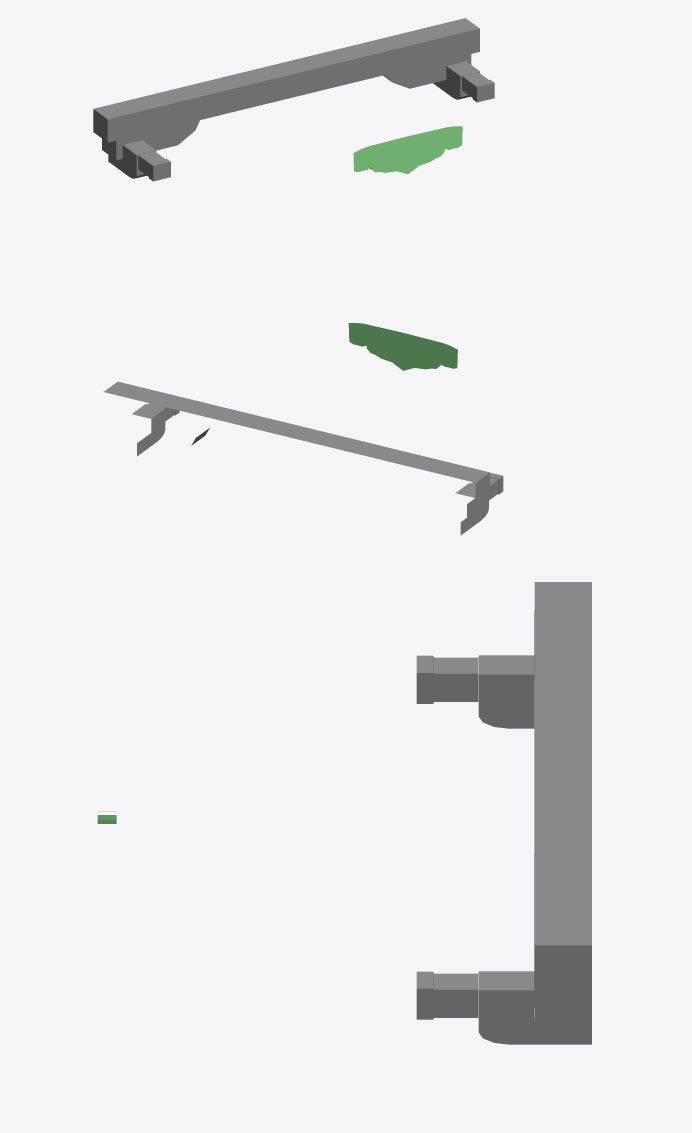
The model's file is S_Envi_Umeda_Pub_03_G.gltf.
The picture shows the model from 3 angles, top to bottom: view 1: azimuth 30°, elevation 25°; view 2: azimuth 150°, elevation 25°; view 3: azimuth 270°, elevation 25°; orthographic projection. The views are drawn at different scales.
Parts seen in each view (by area): view 1: S_Envi_Umeda_Pub_03_G; view 2: S_Envi_Umeda_Pub_03_G; view 3: S_Envi_Umeda_Pub_03_G.
Part boxes in pixels (bbox=[...]): S_Envi_Umeda_Pub_03_G: bbox=[93, 18, 494, 181]; S_Envi_Umeda_Pub_03_G: bbox=[104, 323, 503, 535]; S_Envi_Umeda_Pub_03_G: bbox=[97, 582, 591, 1044].
Size of the model in its own units: 4.72 by 0.8459 by 2.19.
